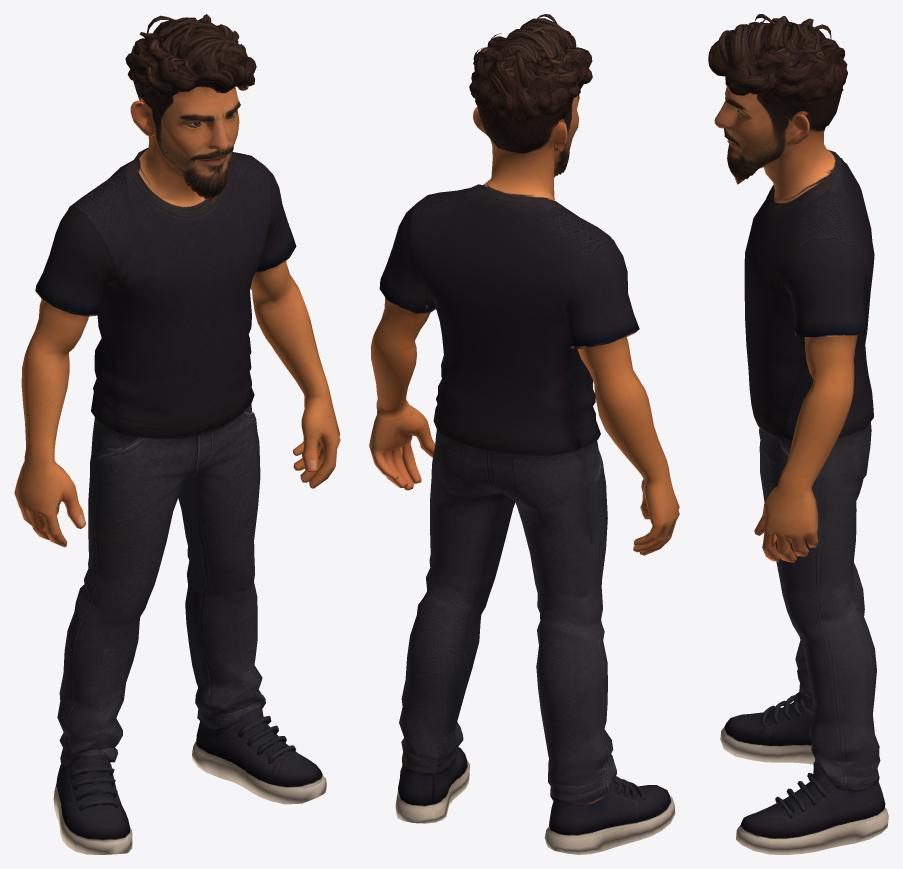
The model's file is avatar4-preview.glb.
The picture shows the model from 3 angles, left to right: view 1: azimuth 30°, elevation 25°; view 2: azimuth 150°, elevation 25°; view 3: azimuth 270°, elevation 25°; orthographic projection. The views are drawn at different scales.
Parts seen in each view (by area): view 1: tripo_34993aec_67c3_49f3_88ba_0355531d7aa6; view 2: tripo_34993aec_67c3_49f3_88ba_0355531d7aa6; view 3: tripo_34993aec_67c3_49f3_88ba_0355531d7aa6.
Part boxes in pixels (x1=…): tripo_34993aec_67c3_49f3_88ba_0355531d7aa6: x1=14, y1=14, x2=340, y2=854; tripo_34993aec_67c3_49f3_88ba_0355531d7aa6: x1=369, y1=14, x2=679, y2=854; tripo_34993aec_67c3_49f3_88ba_0355531d7aa6: x1=708, y1=14, x2=888, y2=854.
Bounding box in the file's own units: 0.4087 × 0.9995 × 0.2104.
Materials: 1 (1 with a texture image).
